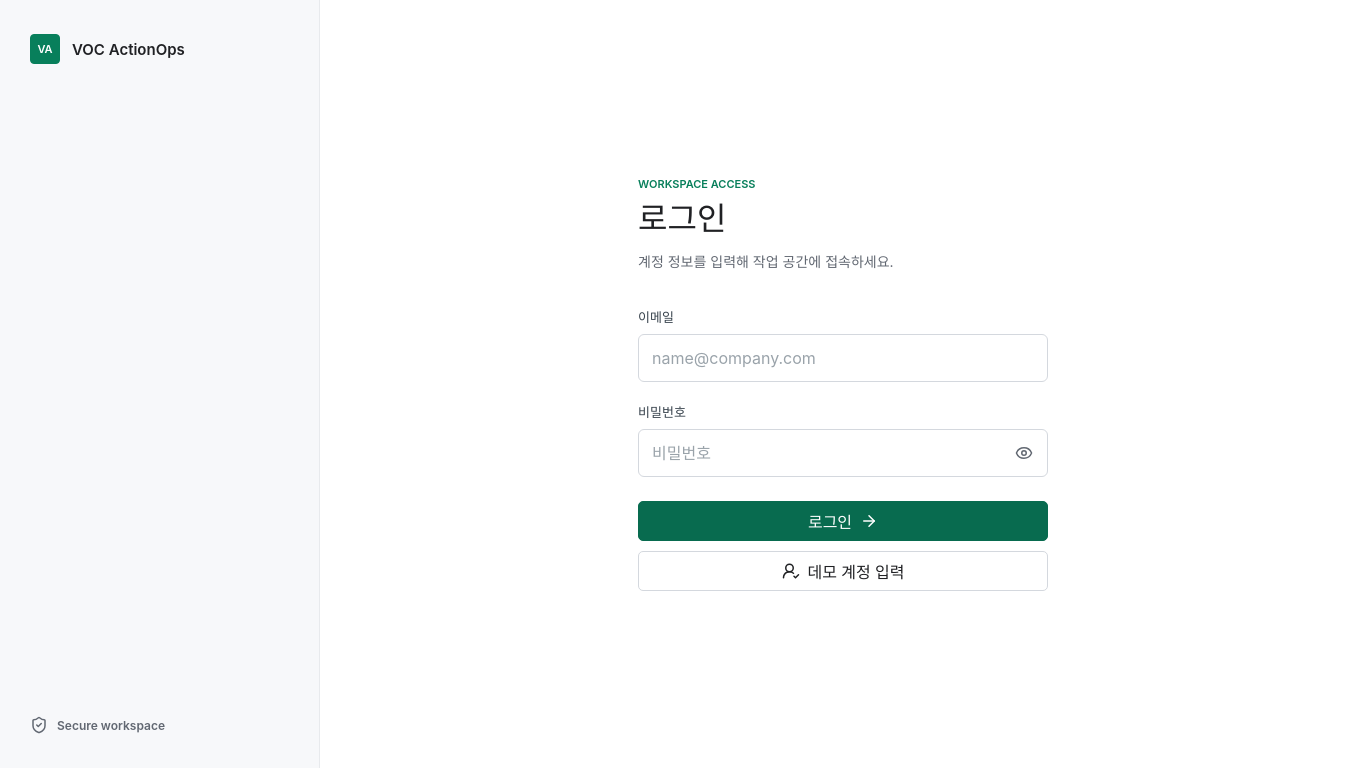
Test: authentication flow › redirects to login, signs in with the demo account, and logs out
Expected: the heading "로그인" is shown, [638,199,726,238]
Click the button "데모 계정 입력". click: (843, 571)
box: [638,551,1048,591]
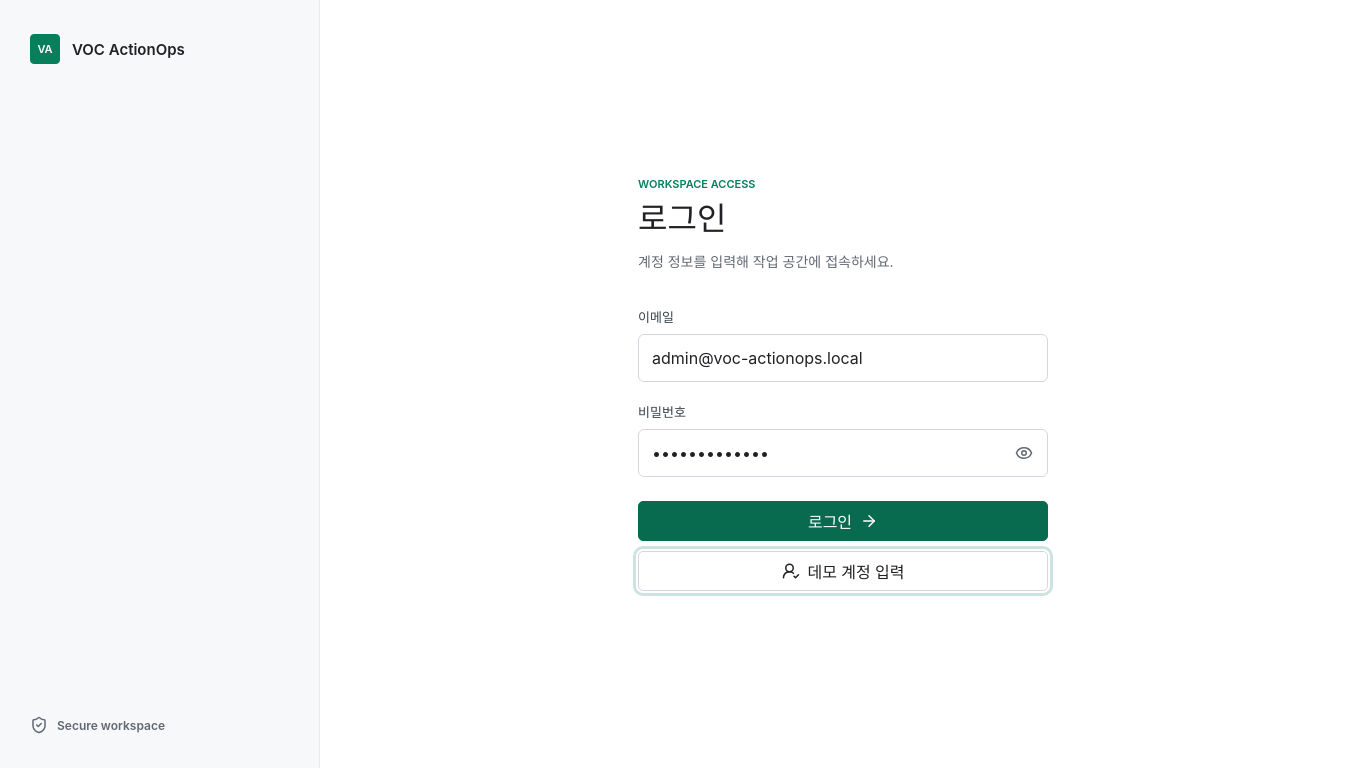
Expected: the field labelled "이메일" holds "admin@voc-actionops.local", [638,334,1048,382]
Expected: the password field labelled "비밀번호" holds "demo-password", [638,429,1048,477]
Click the button "로그인". click: (843, 521)
box: [638,501,1048,541]
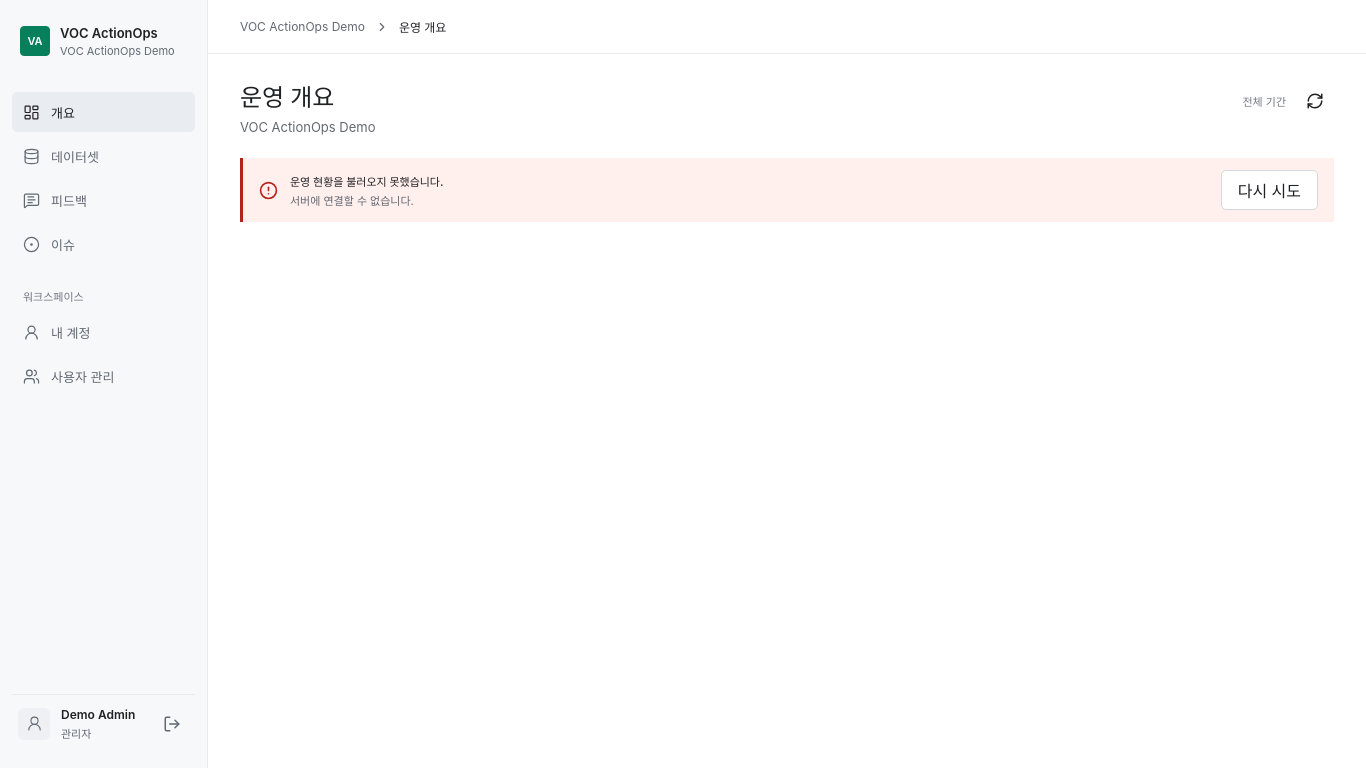
Expected: the heading "운영 개요" is shown, [240,83,334,112]
Expected: the text "VOC ActionOps Demo" is shown, [60,44,175,58]
Expected: the link "사용자 관리" is shown, [23,368,114,384]
Click the button named "로그아웃". click: (172, 724)
box: [153,704,191,742]
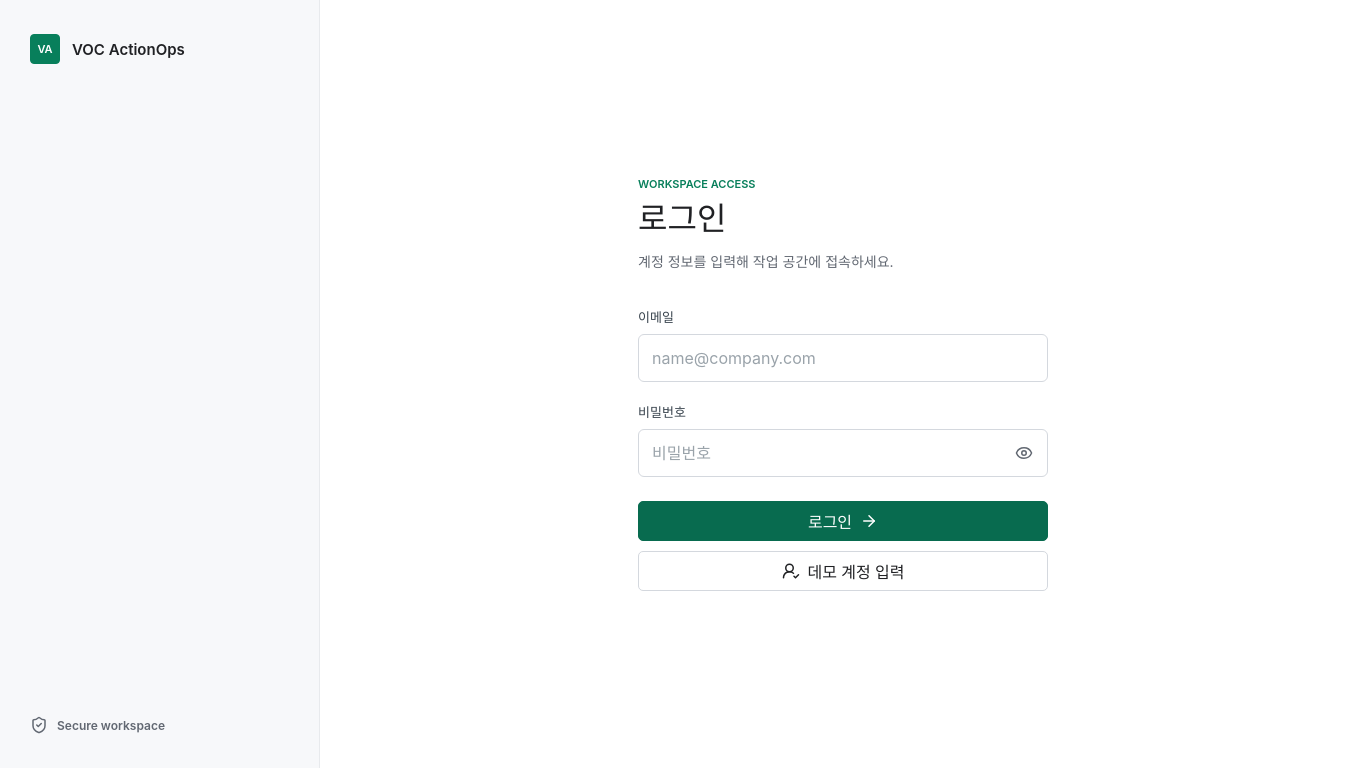
Expected: the heading "로그인" is shown, [638,199,726,238]
